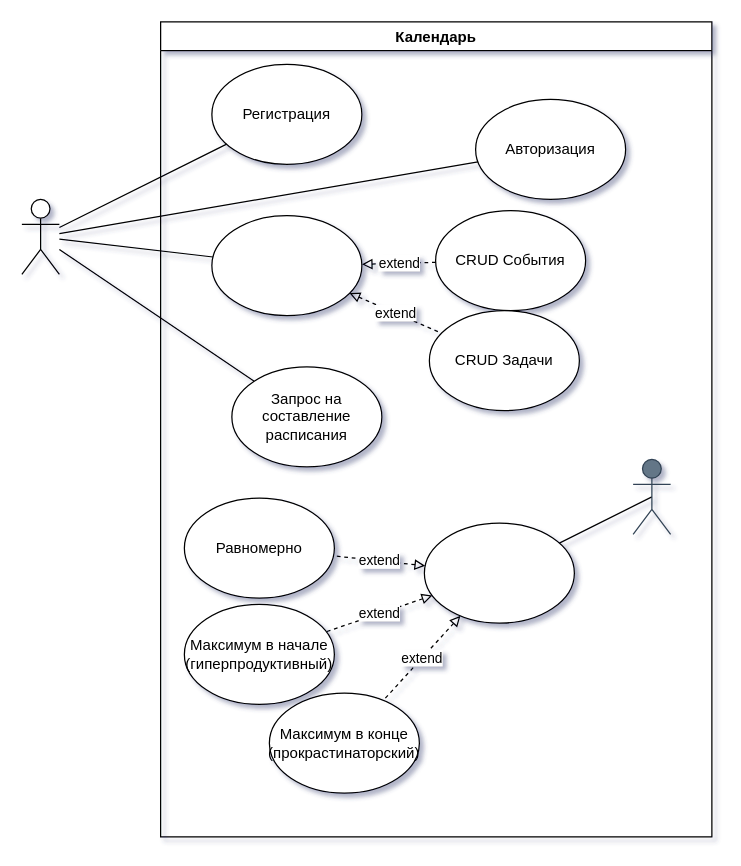
Some shapes in this 741 by 866 pixel diagram are drawn without their labels. The centre of each missing label's shape, as x and y in pixels:
"CRUD ДЕЛА" belongs at (286,265).
"Распределить задачи" belongs at (498,572).
"СиСекретарь" belongs at (651,496).
"Юзер" belongs at (40,236).
